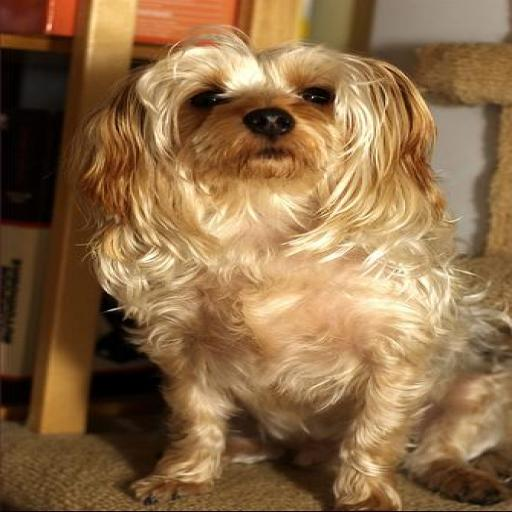dog_face: (103, 46, 424, 199)
